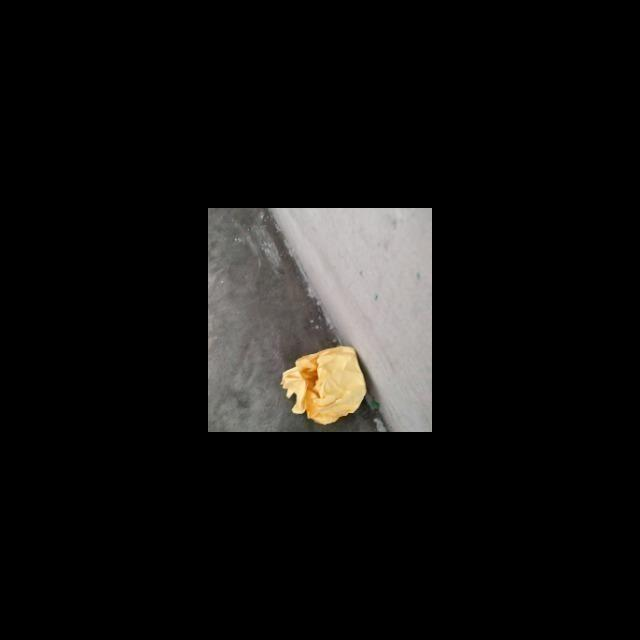paper: (254, 323, 371, 432)
